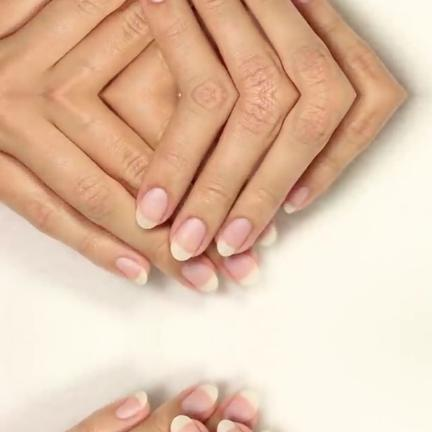Nail: (170, 216, 206, 260), (217, 217, 252, 255), (136, 187, 168, 228), (181, 261, 219, 293), (181, 381, 219, 413), (223, 254, 262, 285), (223, 389, 262, 420), (116, 256, 148, 284), (116, 390, 148, 418), (283, 186, 311, 212), (170, 414, 202, 432), (256, 221, 277, 245), (217, 419, 243, 432), (257, 429, 273, 432), (298, 0, 310, 2), (151, 0, 163, 1)
